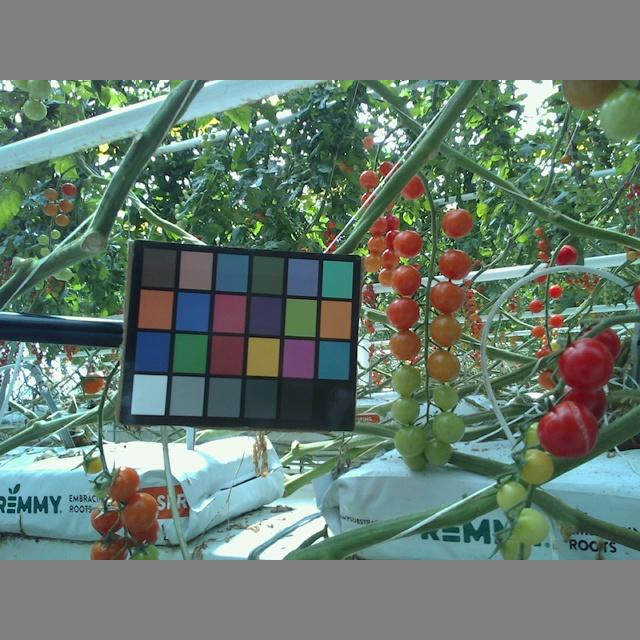green: (599, 88, 640, 140), (509, 504, 551, 545), (515, 448, 556, 487), (495, 477, 529, 512), (433, 411, 466, 444), (393, 426, 427, 458), (389, 366, 423, 395), (424, 439, 452, 468), (391, 397, 421, 424), (431, 385, 459, 410)
pink: (118, 493, 159, 530), (425, 347, 462, 382), (106, 465, 139, 502), (89, 502, 126, 535), (435, 249, 473, 280), (386, 293, 418, 329), (387, 327, 421, 360), (432, 281, 465, 313), (88, 537, 133, 560), (389, 267, 422, 298), (431, 313, 462, 345), (442, 208, 473, 237), (394, 230, 423, 258)
red: (535, 405, 599, 458), (556, 338, 615, 392)
